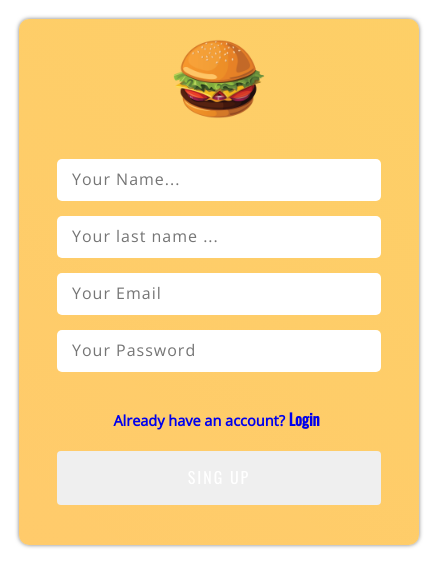
Scenario: form validations › diplay last name  error when input  is left empty after focus
This screenshot has width=439, height=574.
Type "lastName24" into the field with test id "lastNameInput" at (219, 237), box [57,216,381,258]
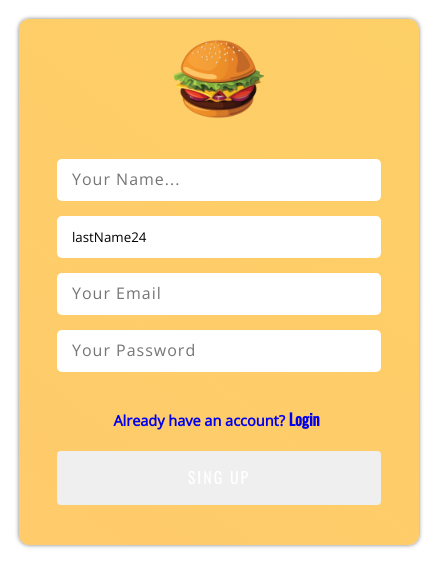
Leave the field with test id "lastNameInput", box [57,216,381,258]
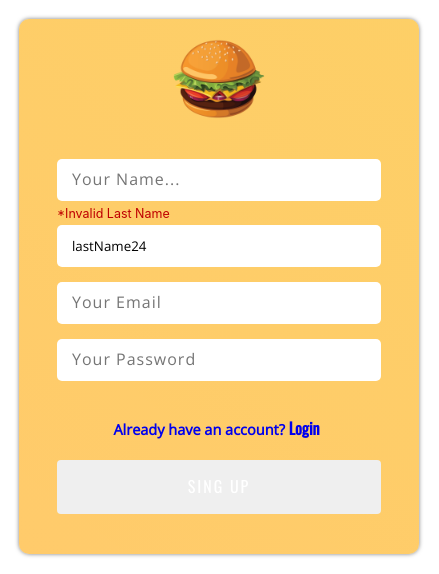
Expected: the text "*Invalid Last Name" is shown, [57,206,170,221]
Replace the text in the field with test id "lastNameInput" with "Díaz" at (219, 246), box [57,225,381,267]
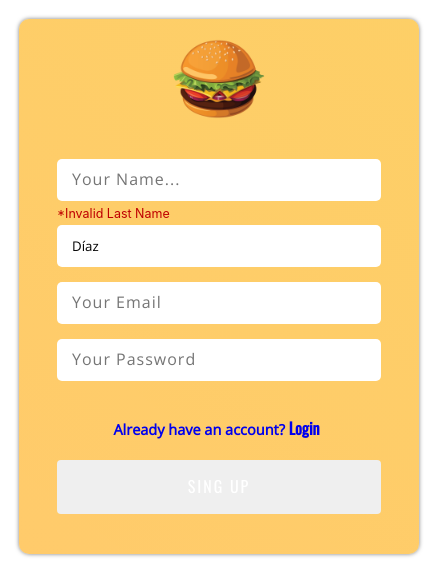
Leave the field with test id "lastNameInput", box [57,225,381,267]
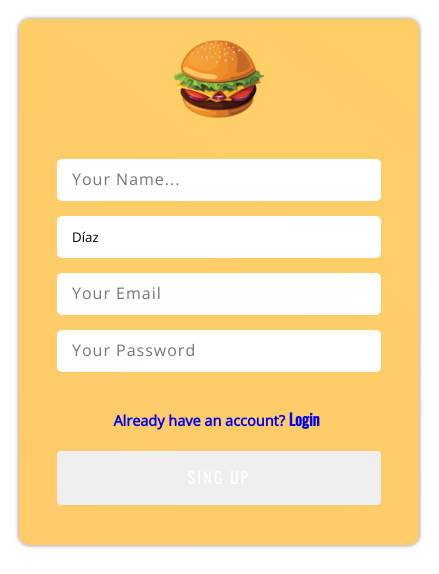
Expected: the text "*Invalid Last Name" is gone
